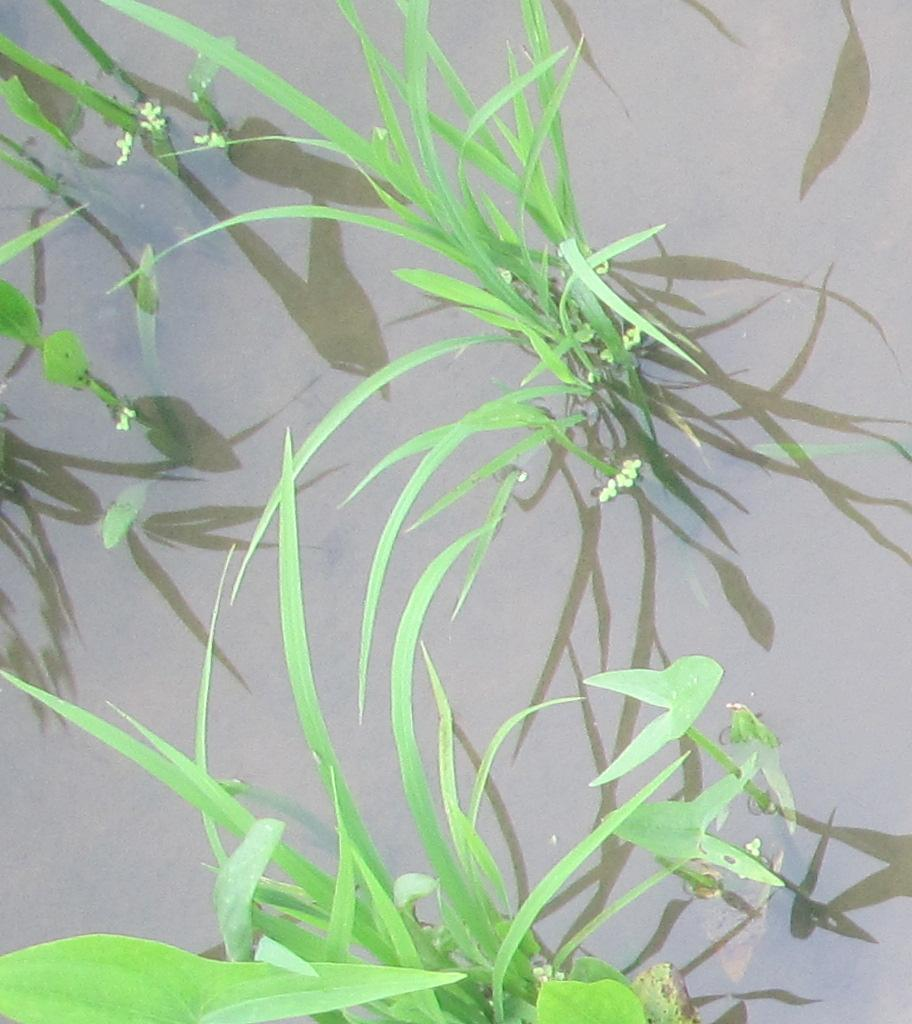Weed: (580, 650, 811, 900), (7, 80, 125, 400)
